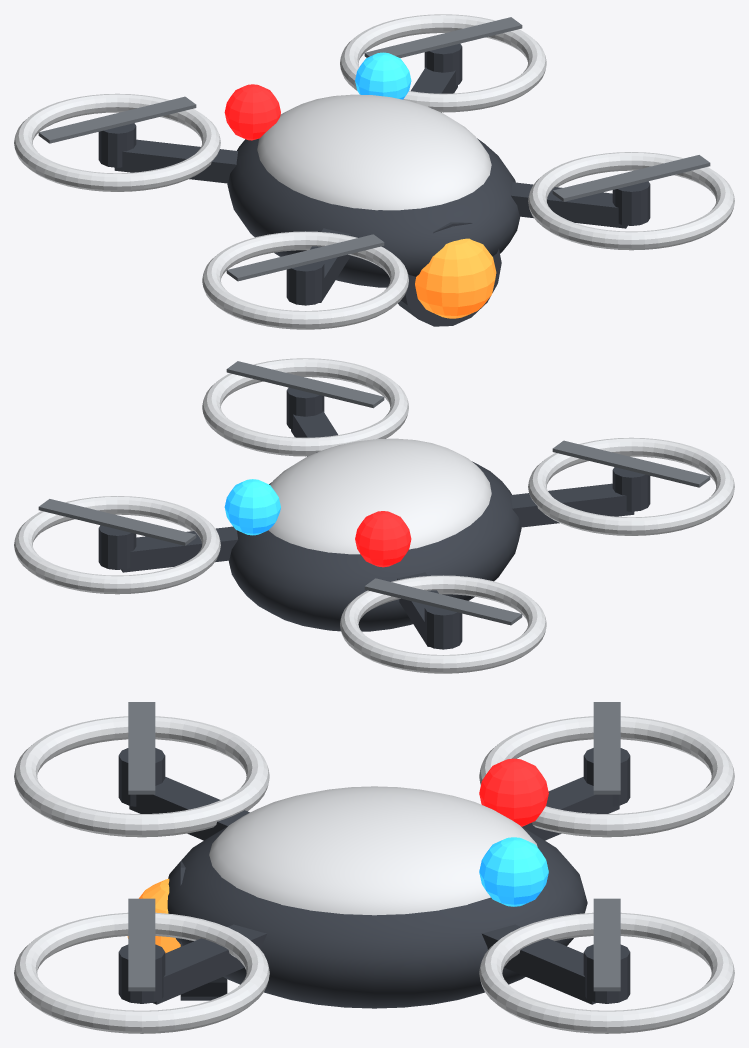
The model's file is drone.glb.
3 views of the same model, one above another, from view 1: azimuth 30°, elevation 25°; view 2: azimuth 150°, elevation 25°; view 3: azimuth 270°, elevation 25° (orthographic). The views are drawn at different scales.
Parts seen in each view (by area): view 1: DroneBody, LightRed, Rotor1, Rotor3, Rotor2, LightBlue, Rotor0; view 2: DroneBody, LightRed, LightBlue, Rotor3, Rotor1, Rotor0, Rotor2; view 3: DroneBody, LightBlue, LightRed, Rotor0, Rotor2, Rotor1, Rotor3.
Boxes of the visible parts, bbox=[...] form: DroneBody: bbox=[14, 14, 734, 329]; LightRed: bbox=[224, 84, 280, 140]; Rotor1: bbox=[38, 96, 196, 143]; Rotor3: bbox=[226, 234, 384, 281]; Rotor2: bbox=[552, 155, 710, 201]; LightBlue: bbox=[355, 52, 411, 99]; Rotor0: bbox=[364, 17, 522, 57]; DroneBody: bbox=[14, 358, 734, 673]; LightRed: bbox=[355, 511, 411, 567]; LightBlue: bbox=[224, 479, 280, 535]; Rotor3: bbox=[552, 440, 710, 487]; Rotor1: bbox=[364, 578, 522, 625]; Rotor0: bbox=[38, 499, 196, 545]; Rotor2: bbox=[226, 361, 384, 408]; DroneBody: bbox=[14, 716, 734, 1033]; LightBlue: bbox=[479, 837, 548, 906]; LightRed: bbox=[479, 758, 548, 826]; Rotor0: bbox=[593, 898, 620, 991]; Rotor2: bbox=[128, 898, 155, 991]; Rotor1: bbox=[593, 702, 620, 794]; Rotor3: bbox=[128, 702, 155, 794].
Size of the model in its own units: 0.93 by 0.275 by 0.93.
